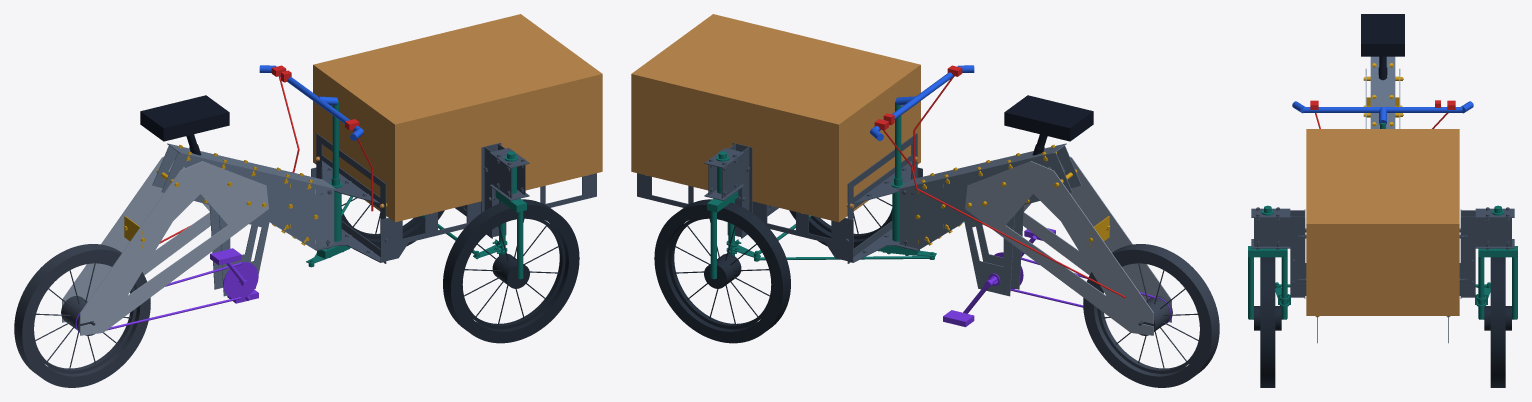
3 views of the same model, side by side, from view 1: azimuth 30°, elevation 25°; view 2: azimuth 150°, elevation 25°; view 3: azimuth 270°, elevation 25° (orthographic). The views are drawn at different scales.
Parts seen in each view (by area): view 1: Cargo box and lid, plywood, Rear stay plates (pair), Front wheels, drum brakes (2), Spine plates and covers, Front bed and knuckle post plates, Rear wheel, 3-speed drum hub, Steering column, knuckles and linkage, Seat tube, seatpost and saddle, Drivetrain, Brake levers, cables, parking latch, Handlebar and stem, Ribs, saddles, spacers and M8 bolts; view 2: Cargo box and lid, plywood, Rear stay plates (pair), Front wheels, drum brakes (2), Spine plates and covers, Front bed and knuckle post plates, Rear wheel, 3-speed drum hub, Steering column, knuckles and linkage, Seat tube, seatpost and saddle, Drivetrain, Brake levers, cables, parking latch, Handlebar and stem, Ribs, saddles, spacers and M8 bolts; view 3: Cargo box and lid, plywood, Front bed and knuckle post plates, Front wheels, drum brakes (2), Steering column, knuckles and linkage, Seat tube, seatpost and saddle, Spine plates and covers, Handlebar and stem, Ribs, saddles, spacers and M8 bolts, Brake levers, cables, parking latch.
Boxes of the visible parts, x1,y1,x2,y2 form: Cargo box and lid, plywood: [313, 14, 602, 222]; Rear stay plates (pair): [62, 156, 268, 335]; Front wheels, drum brakes (2): [341, 197, 579, 343]; Spine plates and covers: [152, 143, 336, 296]; Front bed and knuckle post plates: [311, 133, 596, 263]; Rear wheel, 3-speed drum hub: [14, 244, 150, 387]; Steering column, knuckles and linkage: [306, 100, 526, 279]; Seat tube, seatpost and saddle: [140, 95, 229, 155]; Drivetrain: [75, 248, 258, 332]; Brake levers, cables, parking latch: [159, 65, 373, 243]; Handlebar and stem: [259, 65, 363, 140]; Ribs, saddles, spacers and M8 bolts: [123, 144, 387, 248]; Cargo box and lid, plywood: [631, 14, 920, 222]; Rear stay plates (pair): [965, 156, 1171, 335]; Front wheels, drum brakes (2): [654, 197, 892, 343]; Spine plates and covers: [897, 143, 1081, 296]; Front bed and knuckle post plates: [637, 133, 922, 263]; Rear wheel, 3-speed drum hub: [1083, 244, 1219, 387]; Steering column, knuckles and linkage: [707, 100, 936, 279]; Seat tube, seatpost and saddle: [1004, 95, 1093, 155]; Drivetrain: [943, 228, 1171, 327]; Brake levers, cables, parking latch: [874, 65, 1125, 297]; Handlebar and stem: [870, 65, 974, 140]; Ribs, saddles, spacers and M8 bolts: [846, 144, 1110, 248]; Cargo box and lid, plywood: [1306, 129, 1459, 317]; Front bed and knuckle post plates: [1251, 207, 1514, 343]; Front wheels, drum brakes (2): [1249, 257, 1516, 387]; Steering column, knuckles and linkage: [1248, 123, 1517, 319]; Seat tube, seatpost and saddle: [1361, 14, 1404, 80]; Spine plates and covers: [1370, 56, 1395, 128]; Handlebar and stem: [1292, 101, 1473, 124]; Ribs, saddles, spacers and M8 bolts: [1363, 63, 1403, 126]; Brake levers, cables, parking latch: [1310, 100, 1455, 128].
Bounding box in the file's own units: 2.15 × 0.9299 × 0.984.
